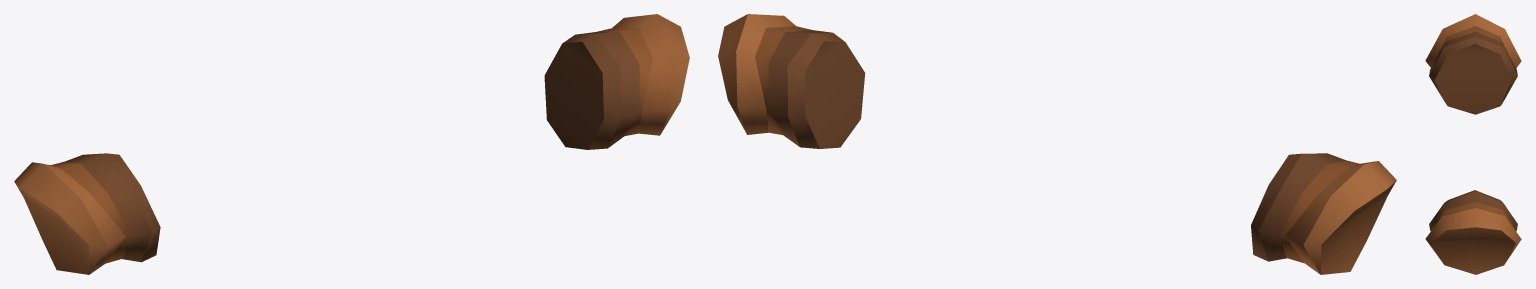
The model's file is Glove_36.fbx.
The picture shows the model from 3 angles, left to right: view 1: azimuth 30°, elevation 25°; view 2: azimuth 150°, elevation 25°; view 3: azimuth 270°, elevation 25°; orthographic projection. The views are drawn at different scales.
Parts seen in each view (by area): view 1: Glove_36; view 2: Glove_36; view 3: Glove_36.
Part boxes in pixels (x1,y1,x2,y2): Glove_36: [14, 14, 689, 274]; Glove_36: [718, 14, 1396, 274]; Glove_36: [1425, 14, 1521, 274].
Size of the model in its own units: 116 by 18.89 by 22.57.
